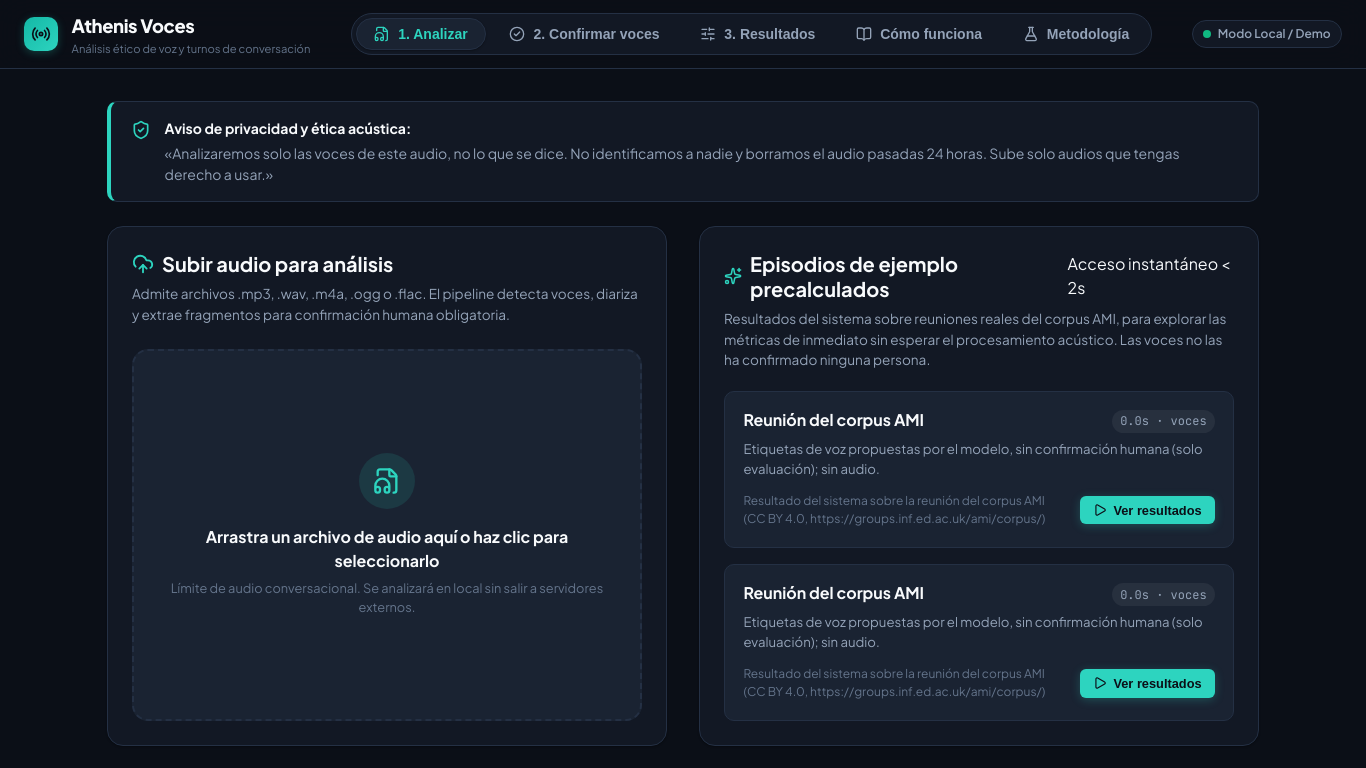
Scenario: Aplicación Athenis Voces Frontend › los términos del glosario y la etiqueta de transparencia no muestran códigos internos
Click the button "Cómo funciona" at (919, 34), box [838,18,1000,50]
(page scrolled)
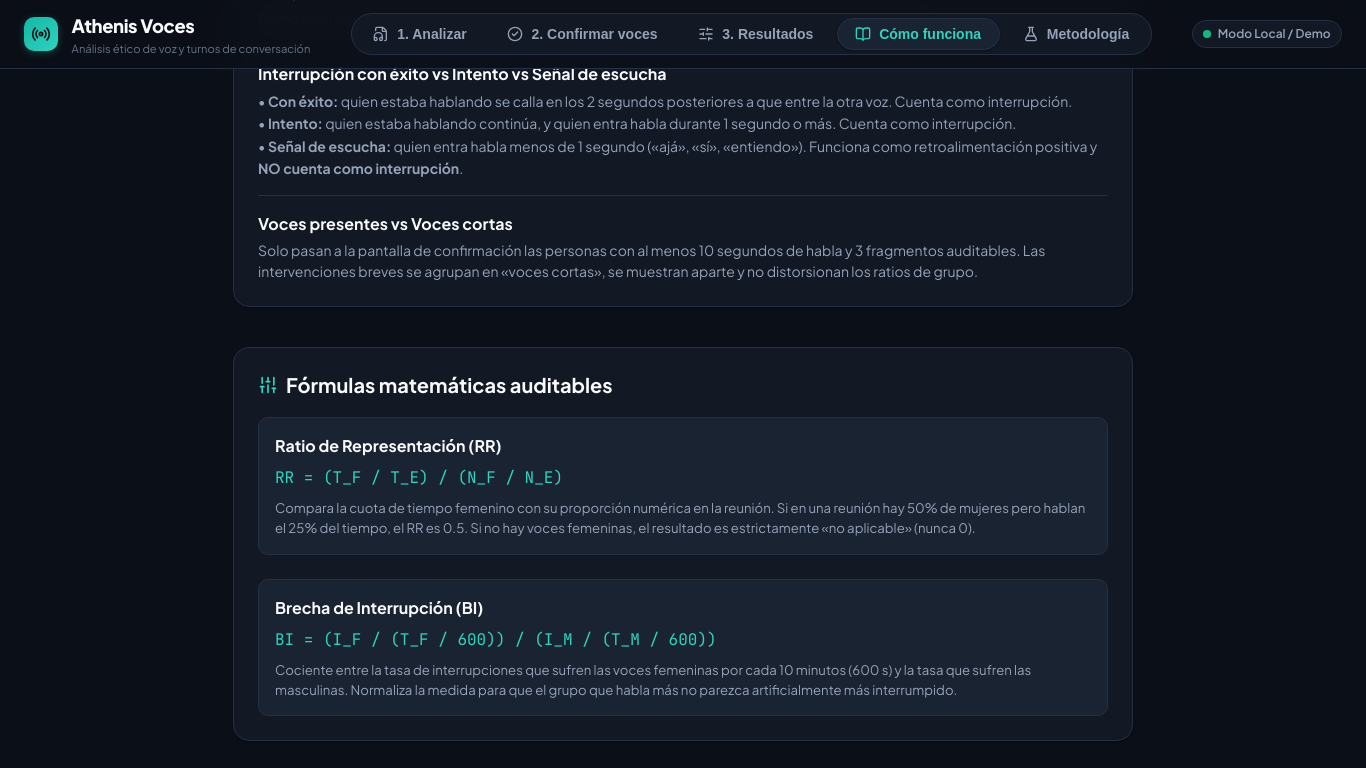
Check: the text "Interrupción con éxito vs Intento vs Señal de escucha" is shown, box [258,63,667,84]
Check: the text "Voces presentes vs Voces cortas" is shown, box [258,213,513,234]
Check: the heading "Fórmulas matemáticas auditables" is shown, box [258,372,613,397]
